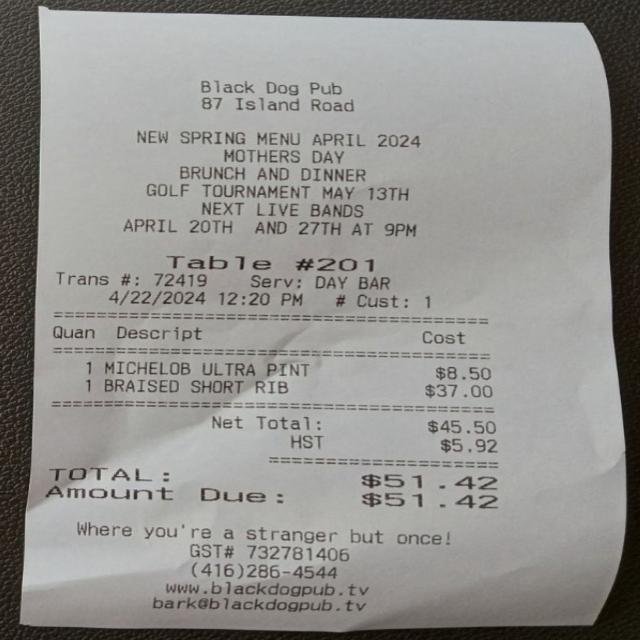item: (94, 352, 499, 383), (94, 376, 499, 402)
store_name: (193, 73, 362, 101)
total_amount: (37, 461, 508, 495)
transaction_date: (101, 286, 214, 311)
